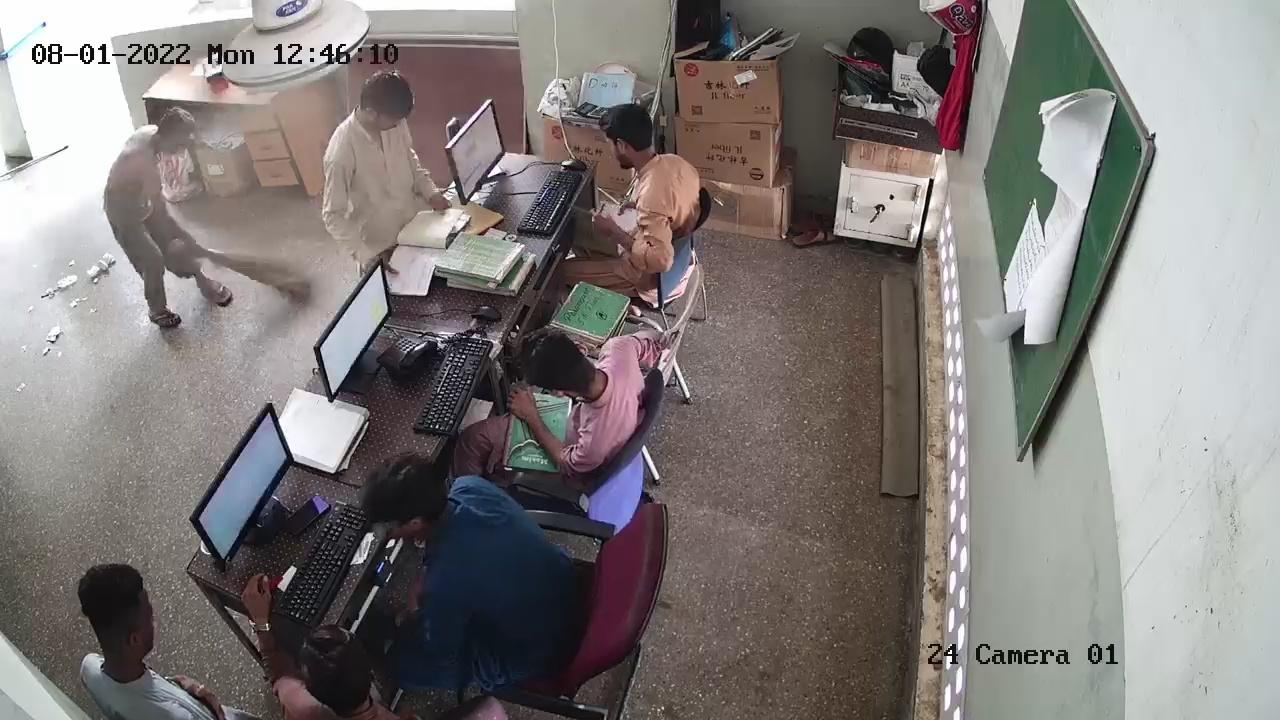person: (346, 448, 562, 677), (496, 337, 652, 470), (322, 80, 417, 298), (236, 620, 417, 720), (592, 105, 694, 275), (124, 102, 186, 328), (94, 580, 200, 712)
